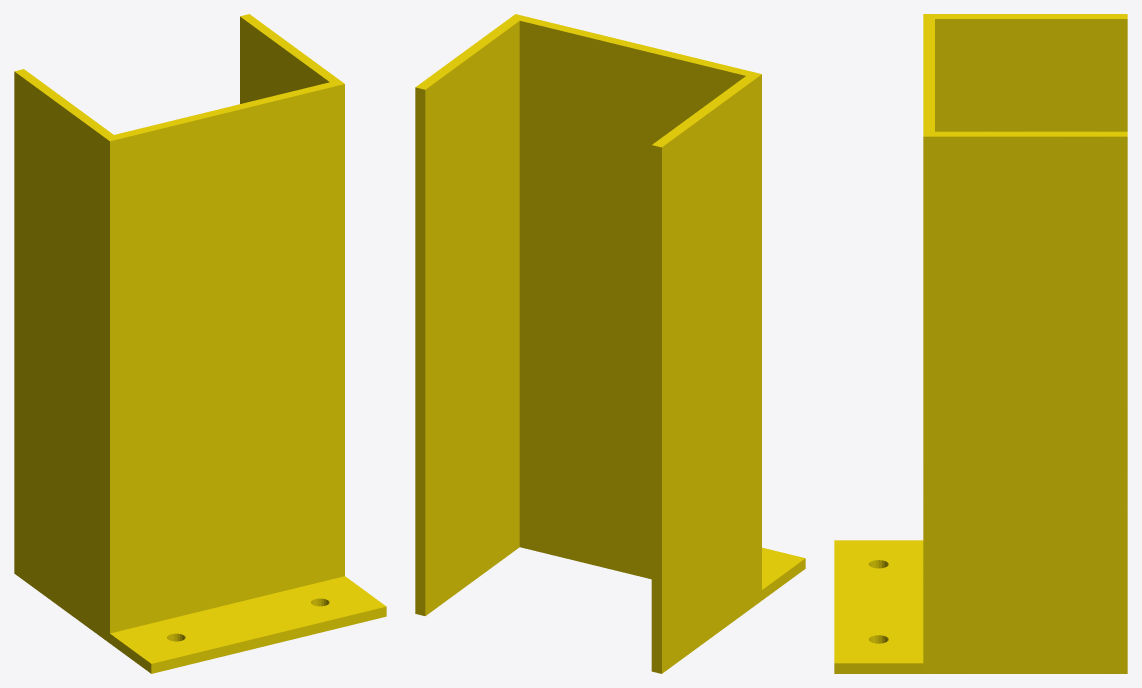
The model's file is guard-upright-80.glb.
The picture shows the model from 3 angles, left to right: view 1: azimuth 30°, elevation 25°; view 2: azimuth 150°, elevation 25°; view 3: azimuth 270°, elevation 25°; orthographic projection. The views are drawn at different scales.
Visible parts, largest first — view 1: body; view 2: body; view 3: body.
Boxes of the visible parts, box(x1,y1,x2,y2) form: body: box(14, 14, 386, 673); body: box(415, 14, 805, 673); body: box(834, 14, 1127, 673).
Size of what is drawn, in the model's own units: 0.196 by 0.4 by 0.198.
